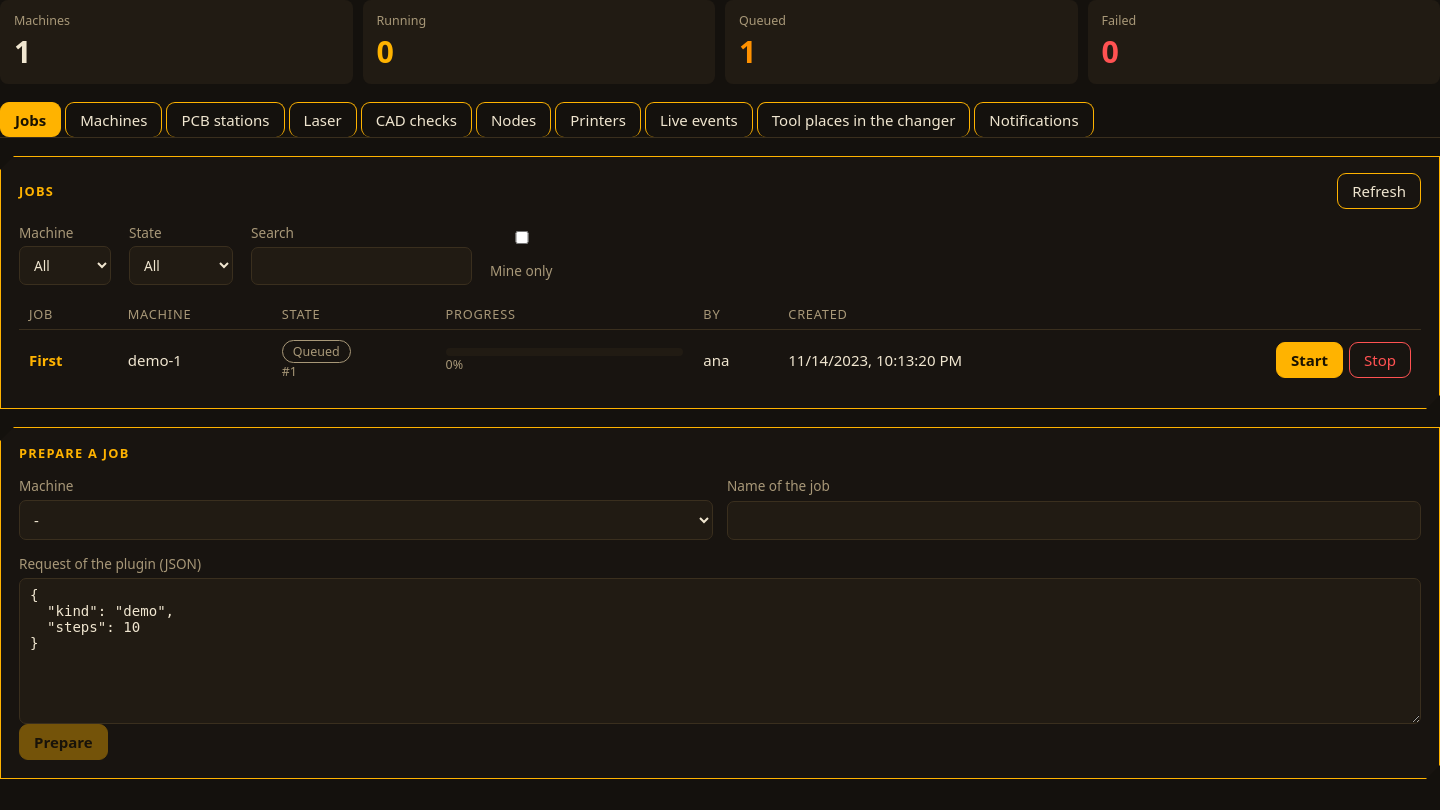
the machines and the jobs › shows the table of the tool places, warns about a place that two tools share and builds nothing until it is right
The width and height of the screenshot is (1440, 810).
Click the tab "Tool places in the changer": (864, 120) top-left (757, 102), bottom-right (970, 137)
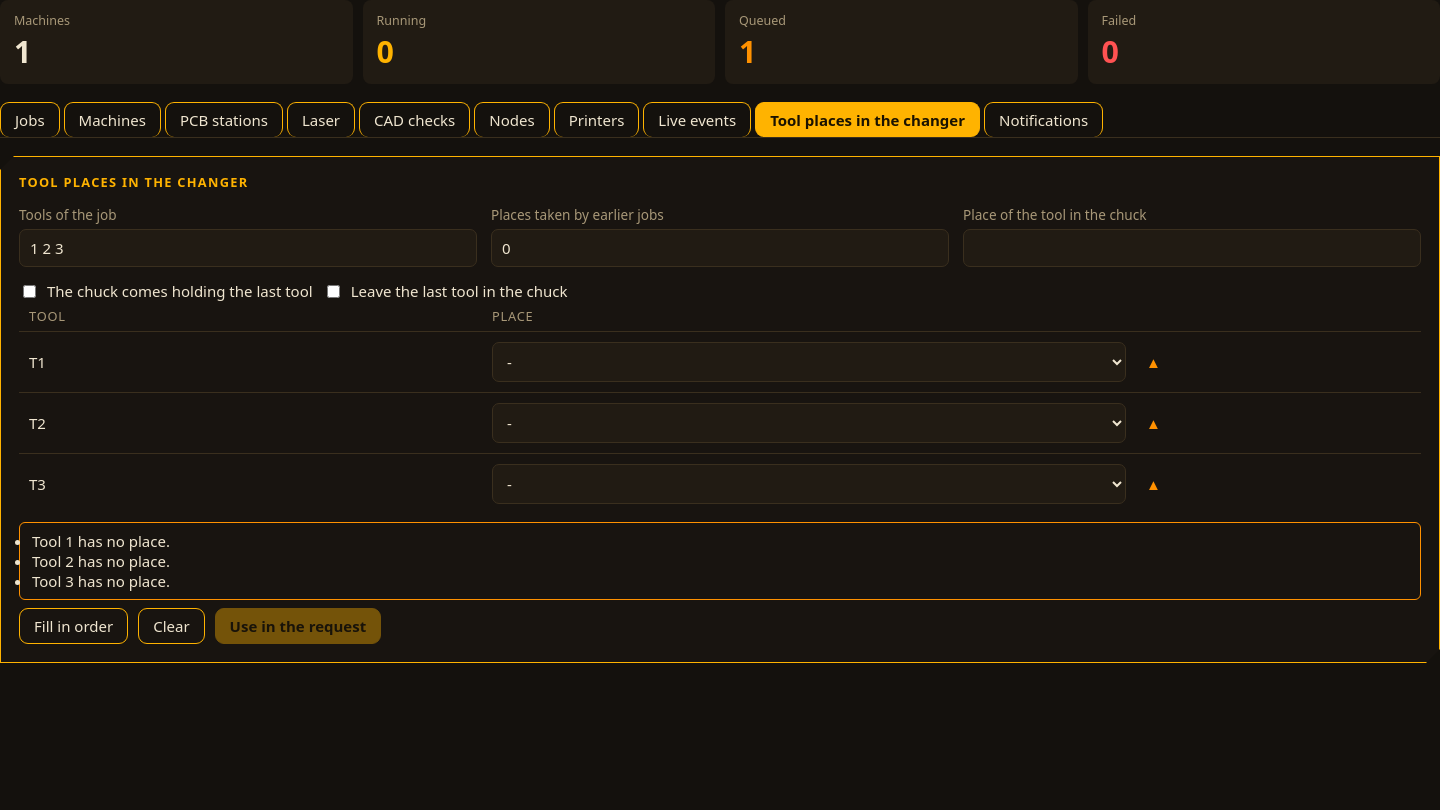
Result: the button "Use in the request" is disabled at top-left (215, 608), bottom-right (381, 644)
Select "4" in the dropdown named "Place T1": (809, 362) top-left (492, 342), bottom-right (1126, 382)
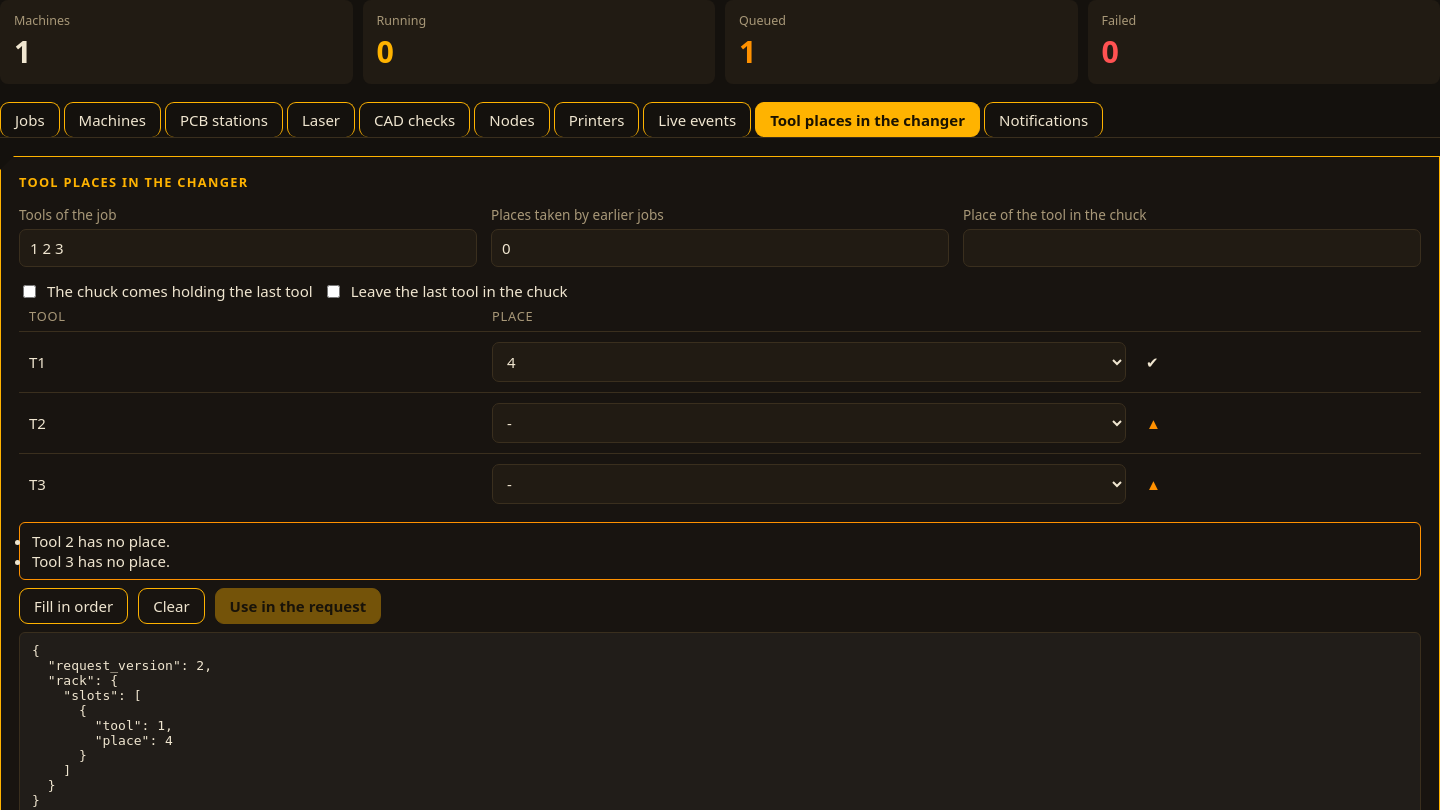
Select "4" in the dropdown named "Place T2": (809, 423) top-left (492, 403), bottom-right (1126, 443)
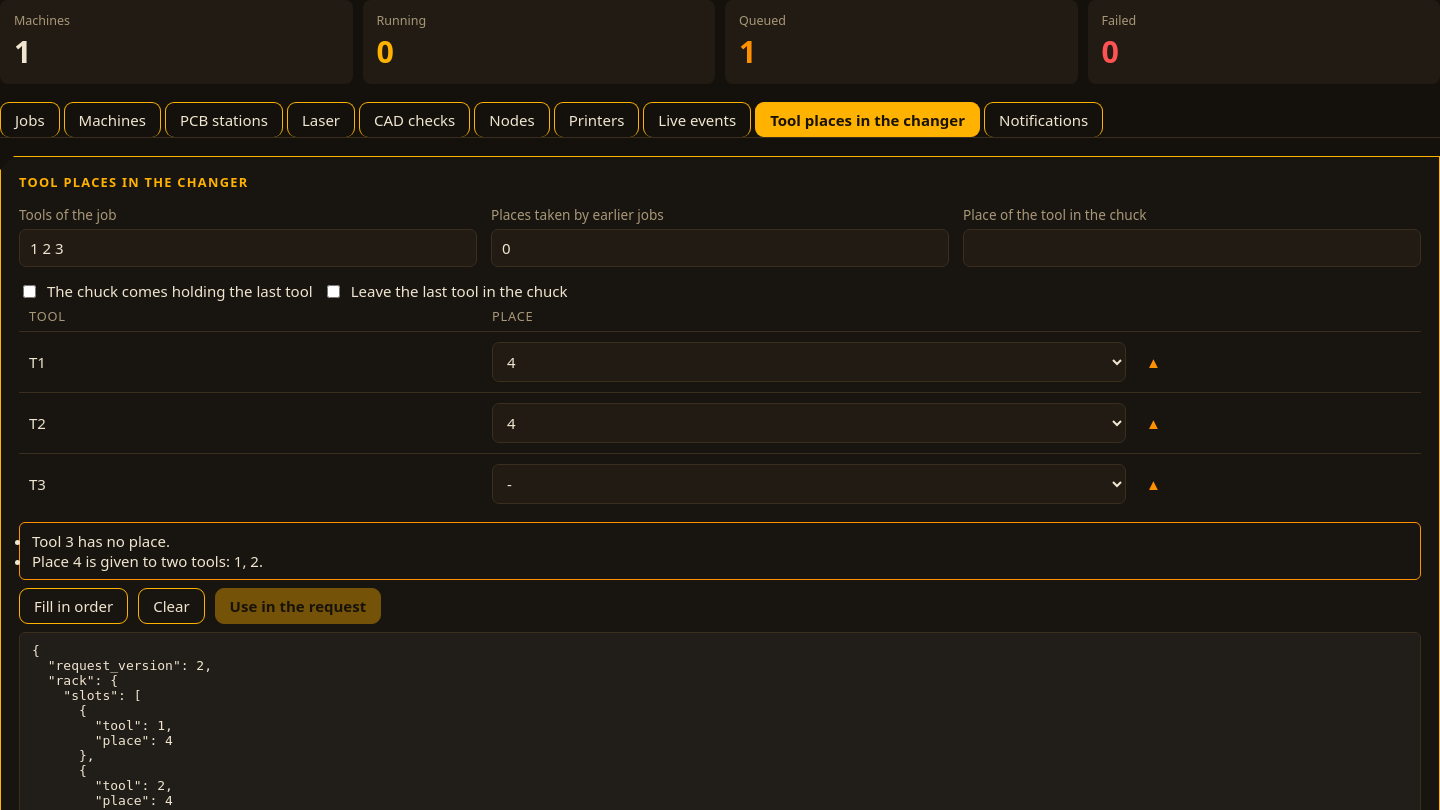
Result: the button "Use in the request" is disabled at top-left (215, 588), bottom-right (381, 624)
Result: the button "Clear" is shown
Result: the message "Tool 3 has no place. Place 4 is given to two tools: 1, 2." is shown at top-left (19, 522), bottom-right (1421, 580)
Click the button "Clear": (171, 606) top-left (138, 588), bottom-right (205, 624)
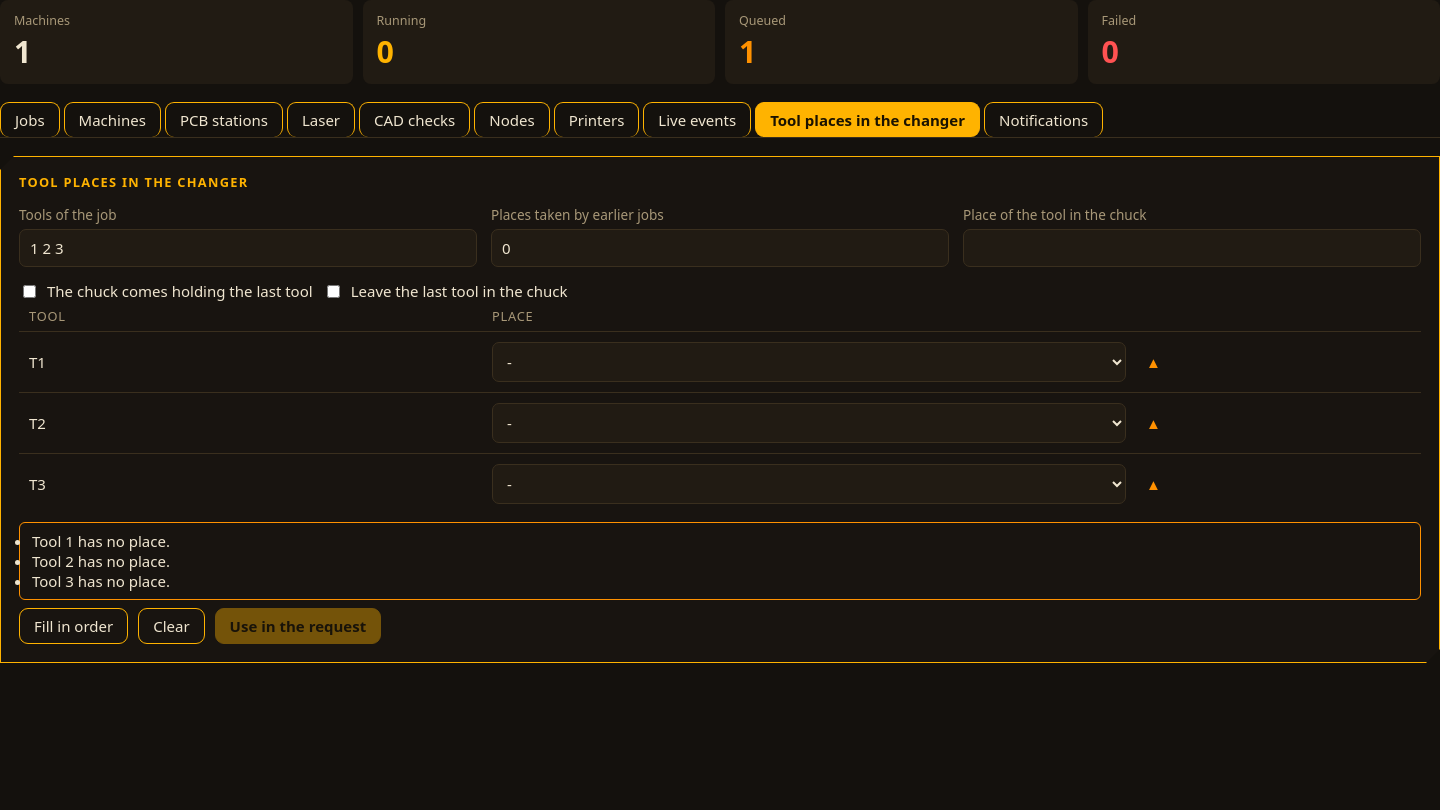
Result: the button "Fill in order" is shown
Result: the message "Tool 1 has no place. Tool 2 has no place. Tool 3 has no place." is shown at top-left (19, 522), bottom-right (1421, 600)
Click the button "Fill in order": (74, 626) top-left (19, 608), bottom-right (128, 644)
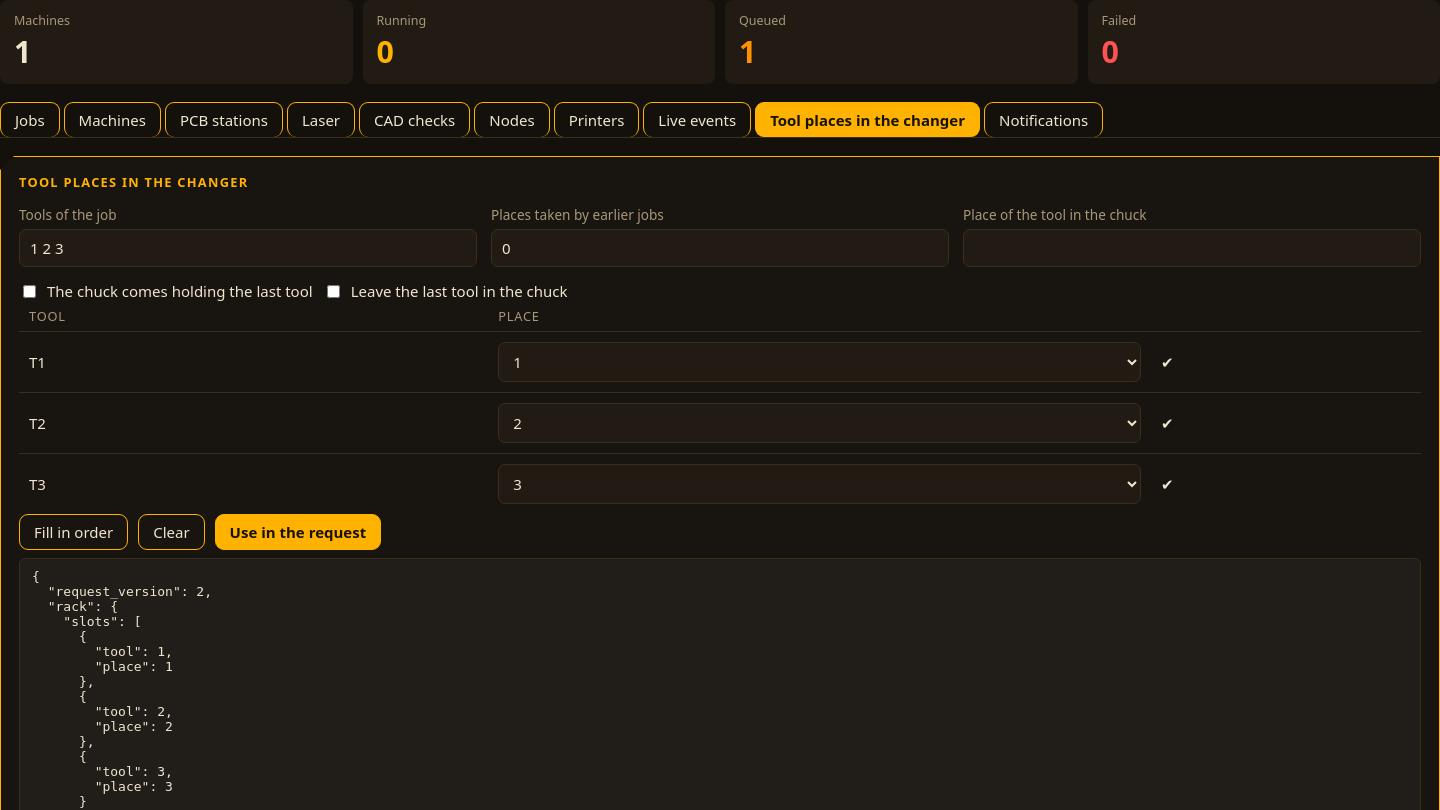
Result: the message "Tool 1 has no place. Tool 2 has no place. Tool 3 has no place." is gone
Result: the button "Use in the request" is enabled at top-left (215, 514), bottom-right (381, 550)
